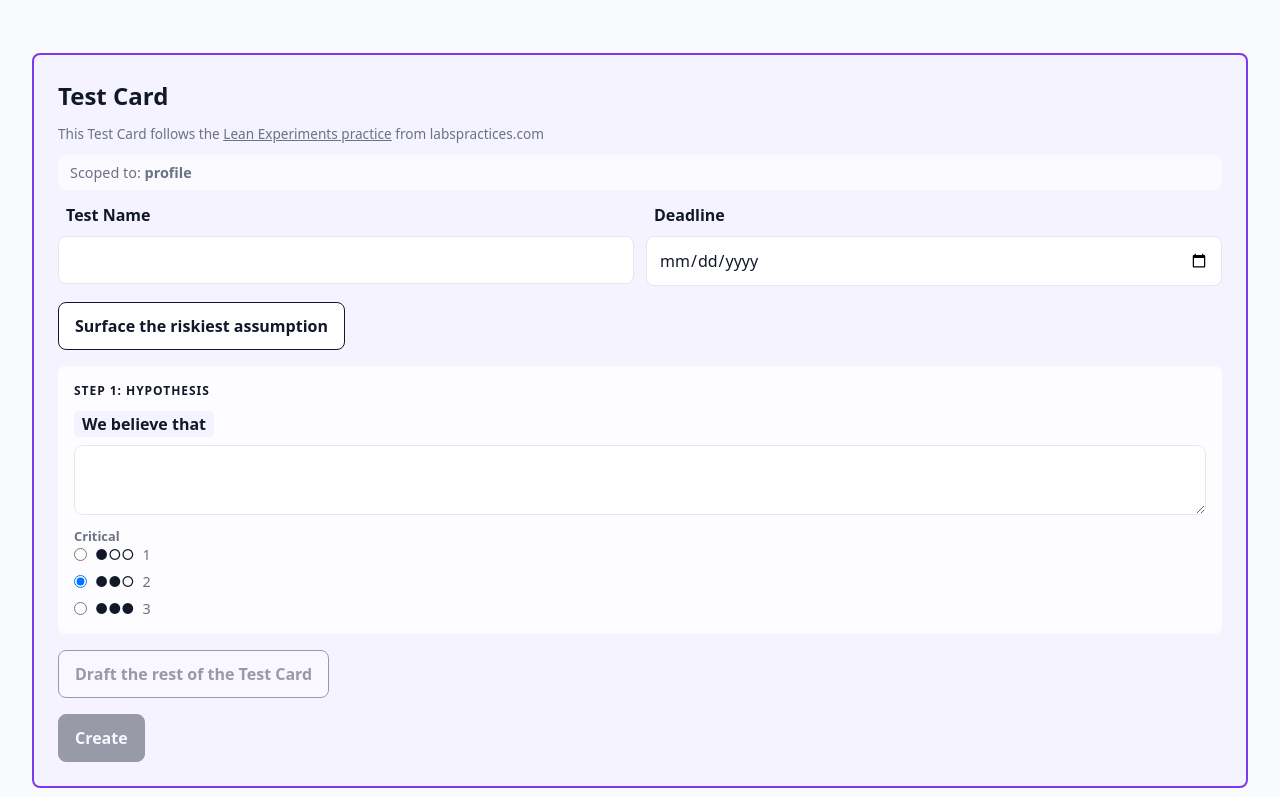
it: CreateExperimentForm (Test Card) › drafts the rest of the Test Card (test/metric/criteria/duration + ratings) from the current hypothesis
Type "Users will save 3+ recipes per week" into the text box labelled "We believe that" at x=640, y=480, box top-left (74, 445), bottom-right (1206, 515)
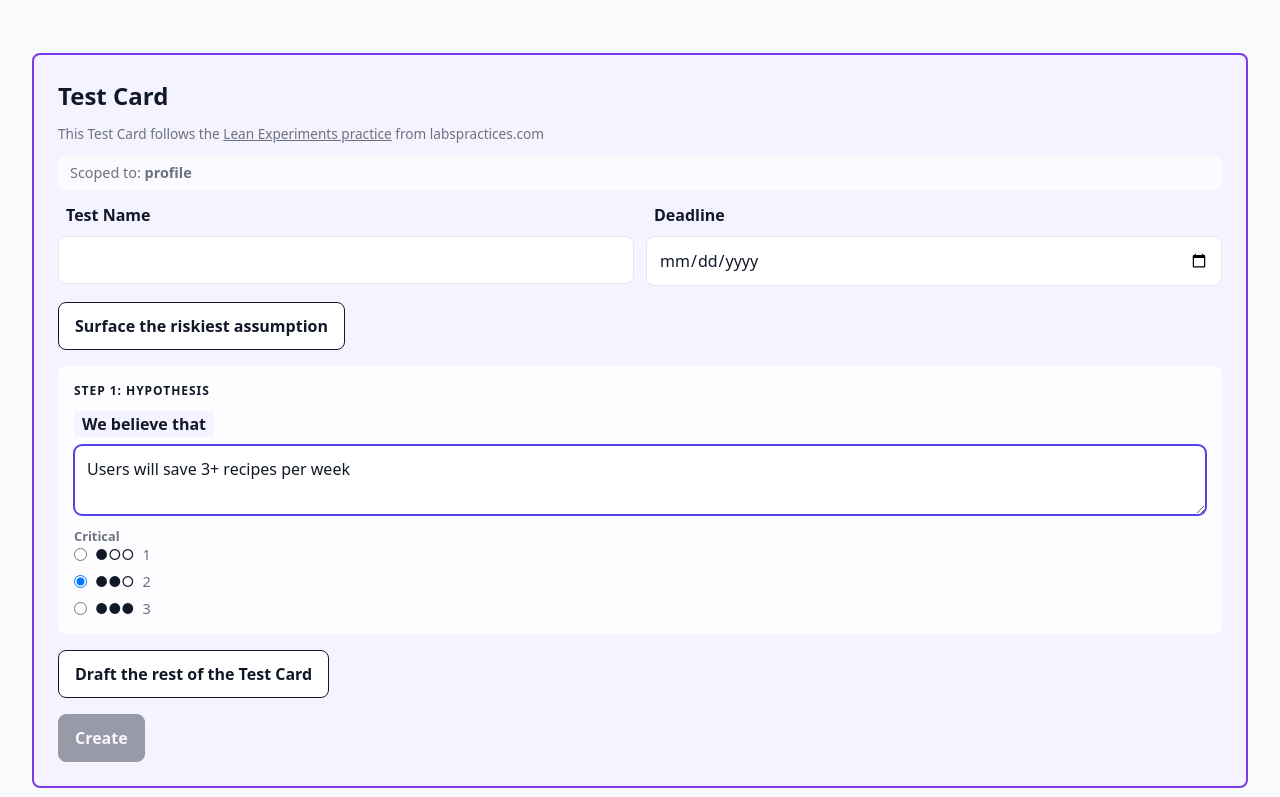
Click the button "Draft the rest of the Test Card" at x=194, y=674, box top-left (58, 650), bottom-right (329, 698)
(page scrolled)
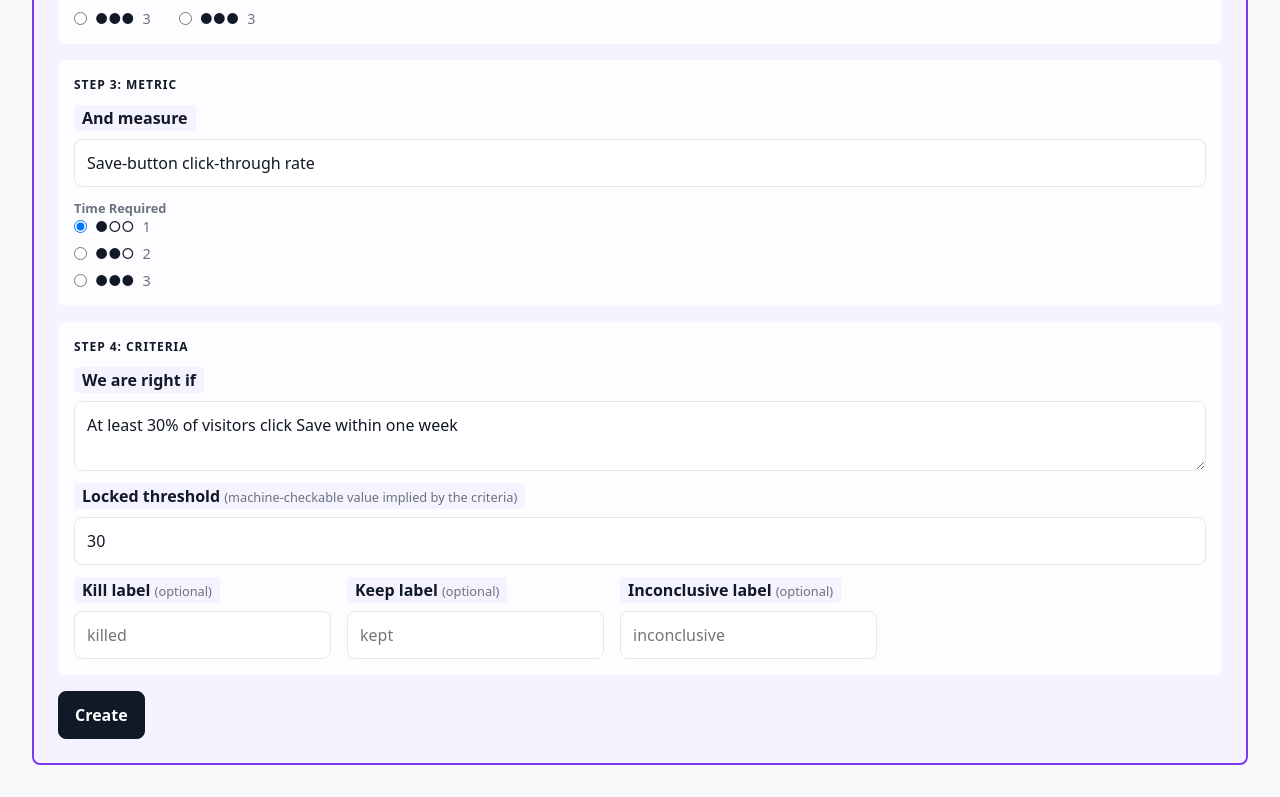
Result: the field labelled "And measure" holds "Save-button click-through rate" at top-left (74, 139), bottom-right (1206, 187)
Result: the text box labelled "We are right if" holds "At least 30% of visitors click Save within one week" at top-left (74, 401), bottom-right (1206, 471)
Result: the number field labelled "Locked threshold" holds "30" at top-left (74, 517), bottom-right (1206, 565)
